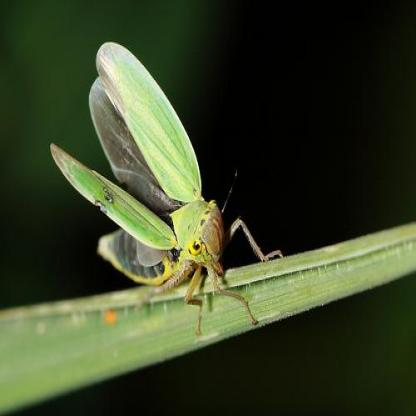Green-Leafhopper: (51, 42, 278, 327)
